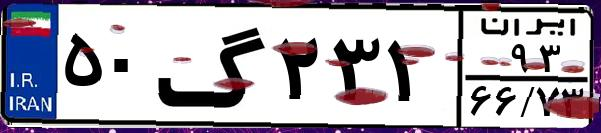0: (110, 28, 156, 98)
1: (385, 28, 445, 110)
2: (270, 28, 330, 110)
3: (330, 28, 385, 110), (560, 70, 590, 125), (537, 27, 568, 80)
5: (57, 26, 110, 100)
6: (470, 70, 495, 125), (495, 70, 520, 125)
7: (535, 70, 560, 125)
9: (508, 27, 537, 80)
گ: (156, 12, 270, 120)
